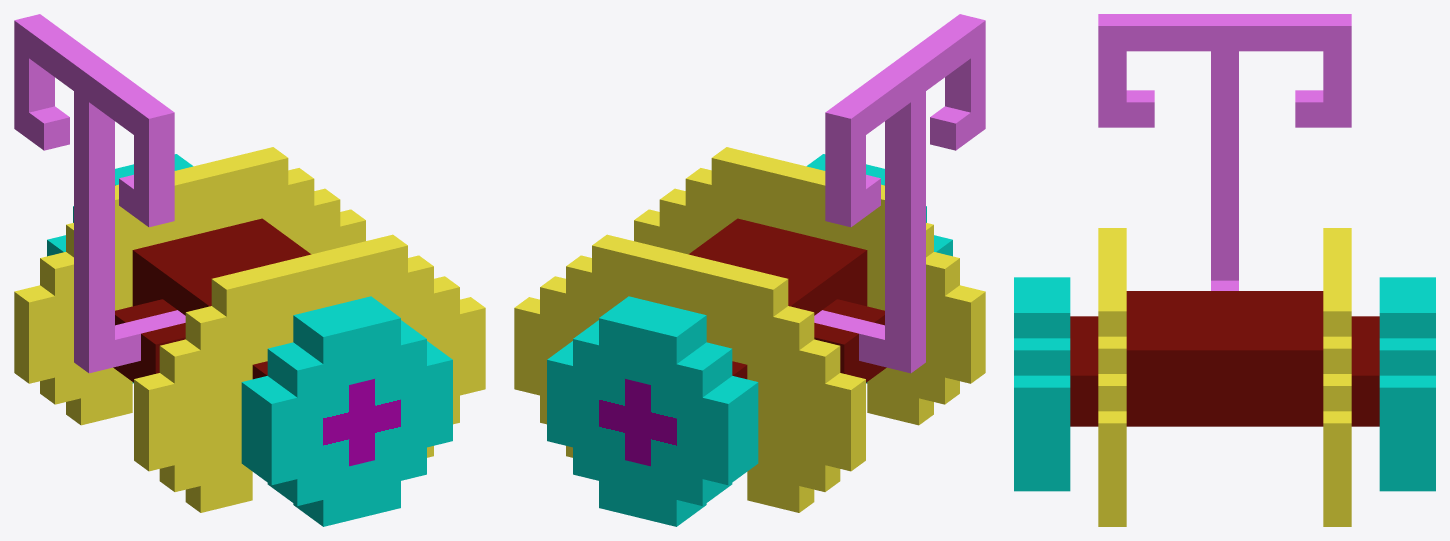
File: Vehicle_22.fbx
The picture shows the model from 3 angles, left to right: view 1: azimuth 30°, elevation 25°; view 2: azimuth 150°, elevation 25°; view 3: azimuth 270°, elevation 25°; orthographic projection. The views are drawn at different scales.
Parts seen in each view (by area): view 1: Vehicle_22; view 2: Vehicle_22; view 3: Vehicle_22.
Part boxes in pixels (x1=…): Vehicle_22: x1=14, y1=14, x2=485, y2=526; Vehicle_22: x1=514, y1=14, x2=985, y2=526; Vehicle_22: x1=1014, y1=14, x2=1435, y2=526.
Bounding box in the file's own units: 13 × 15 × 15.
Materials: 1 (1 with a texture image).
